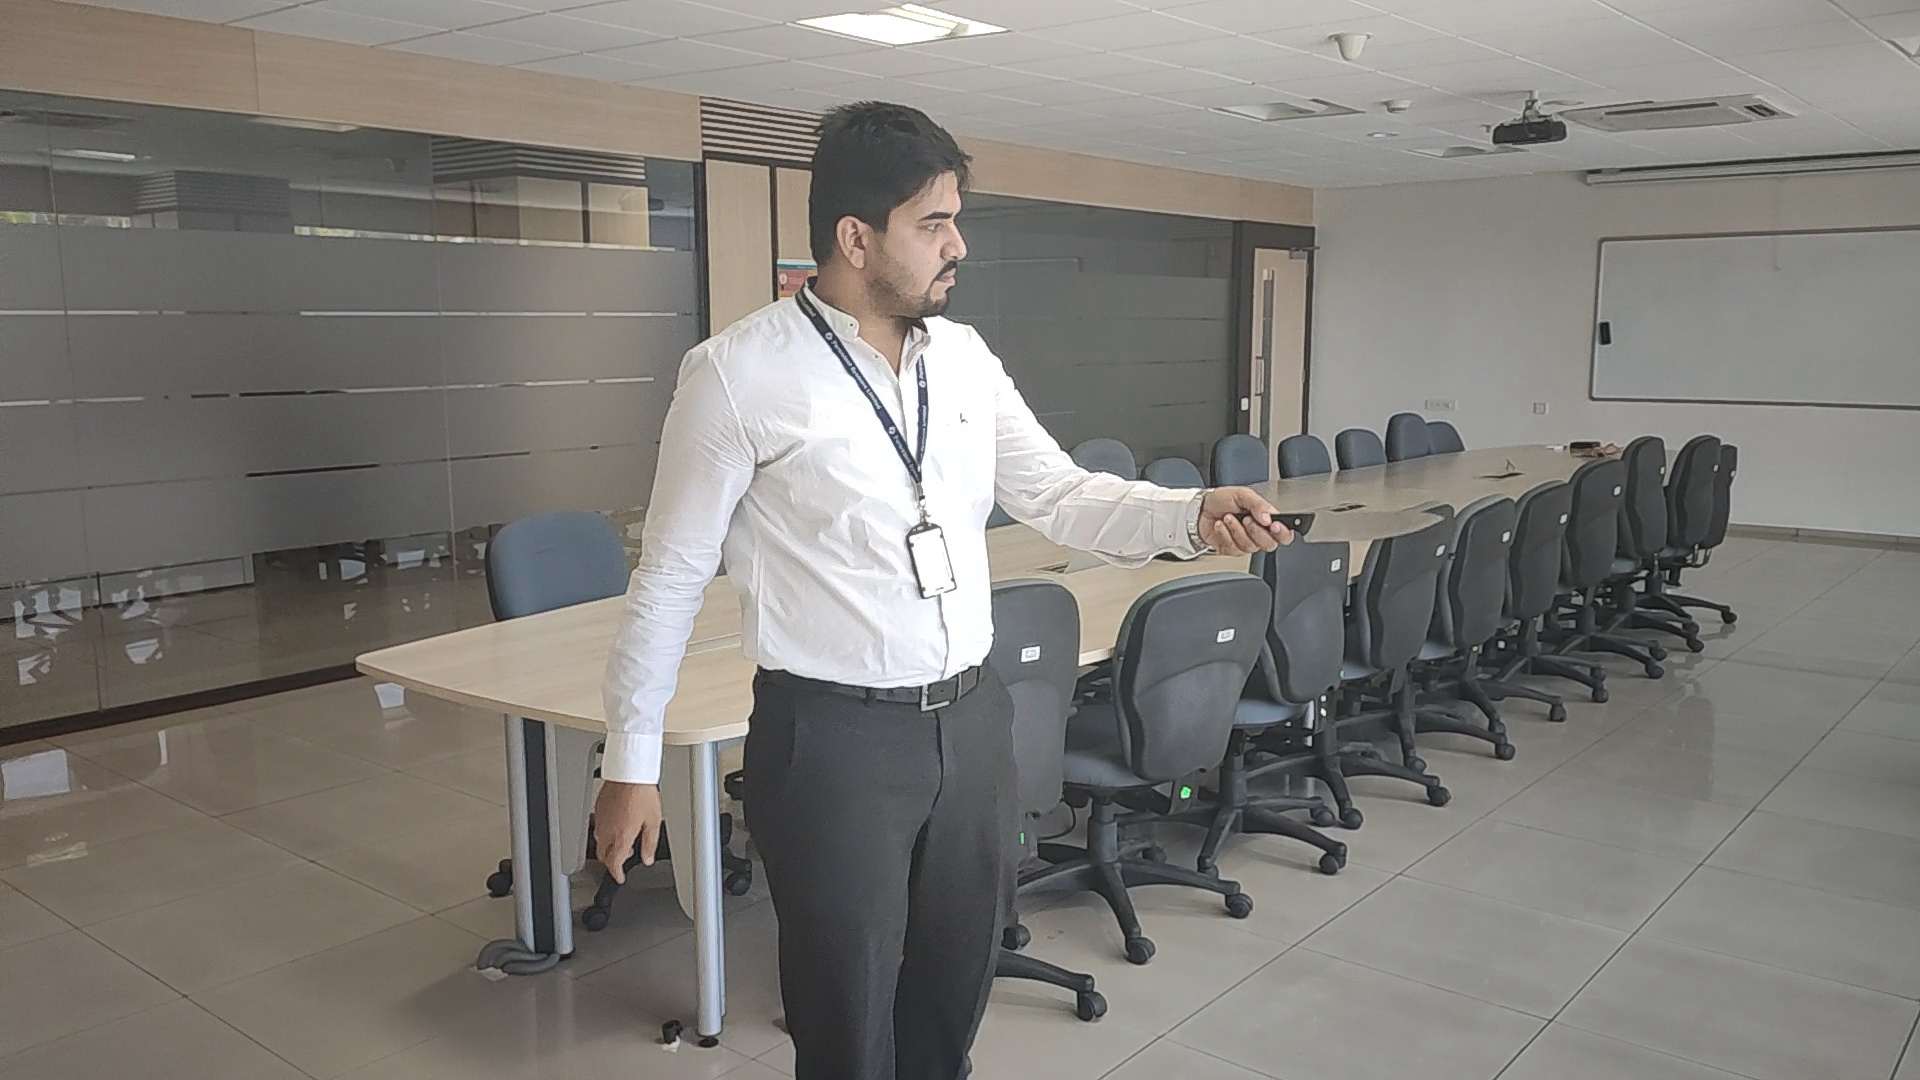knife: (1296, 509, 1447, 546)
